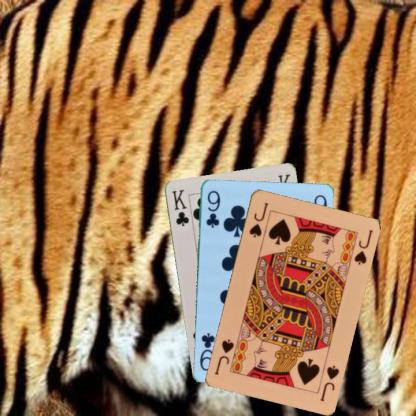9c: (203, 187, 221, 229)
Js: (246, 199, 270, 239), (318, 362, 340, 402)
Kc: (169, 187, 190, 227)
